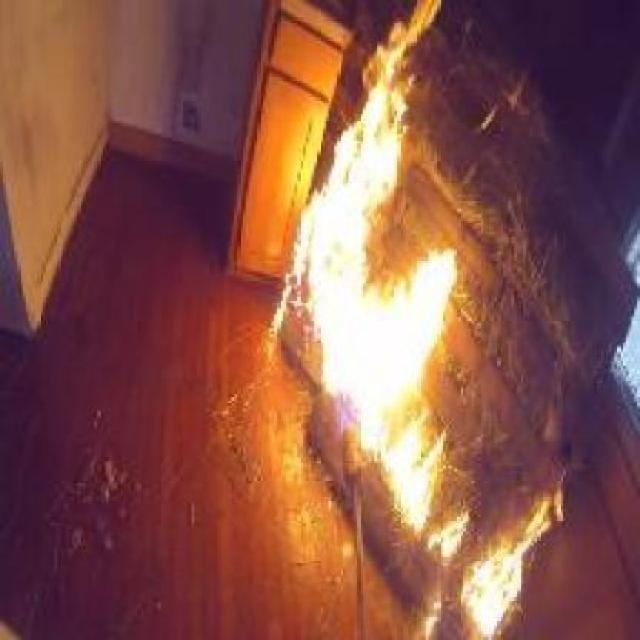fire: (268, 14, 552, 575)
